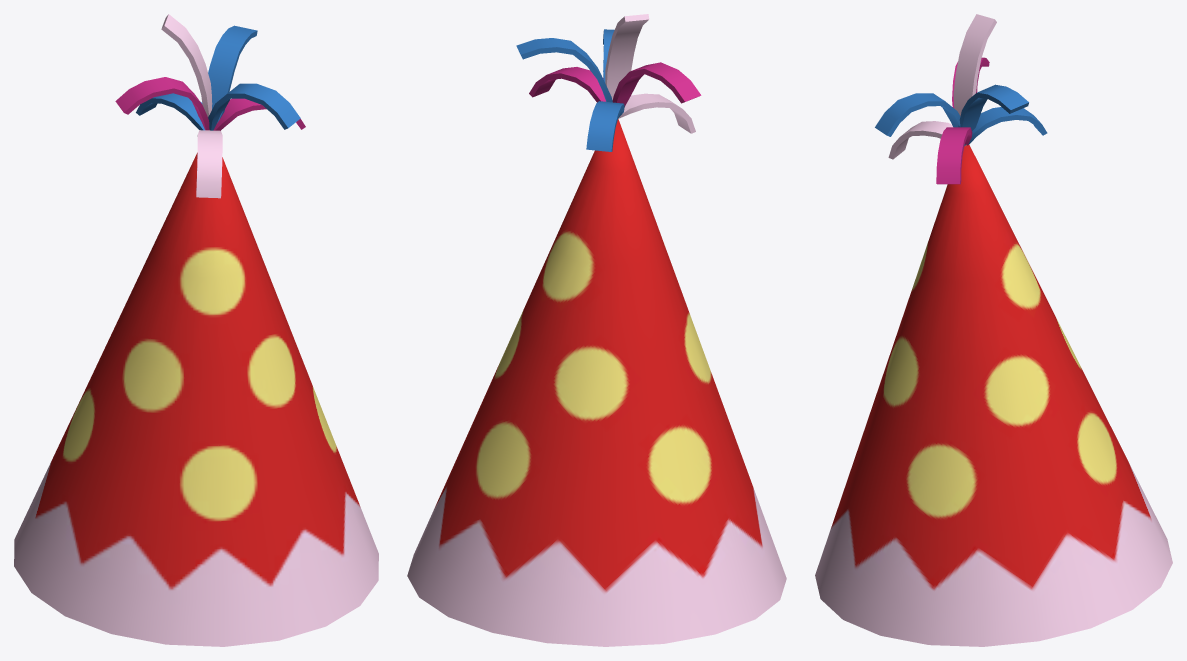
File: hat_pm0007_00_zenigame_pokemonday2020.fbx
3 views of the same model, side by side, from view 1: azimuth 30°, elevation 25°; view 2: azimuth 150°, elevation 25°; view 3: azimuth 270°, elevation 25° (orthographic). The views are drawn at different scales.
Parts seen in each view (by area): view 1: hat_pm0007_00_zenigame_pokemonday2020; view 2: hat_pm0007_00_zenigame_pokemonday2020; view 3: hat_pm0007_00_zenigame_pokemonday2020.
Part boxes in pixels (<box>): hat_pm0007_00_zenigame_pokemonday2020: <box>14,14,378,646</box>; hat_pm0007_00_zenigame_pokemonday2020: <box>407,14,786,646</box>; hat_pm0007_00_zenigame_pokemonday2020: <box>815,14,1172,646</box>.
Size of the model in its own units: 0.1132 by 0.191 by 0.1131.
1 material, 1 textured.
